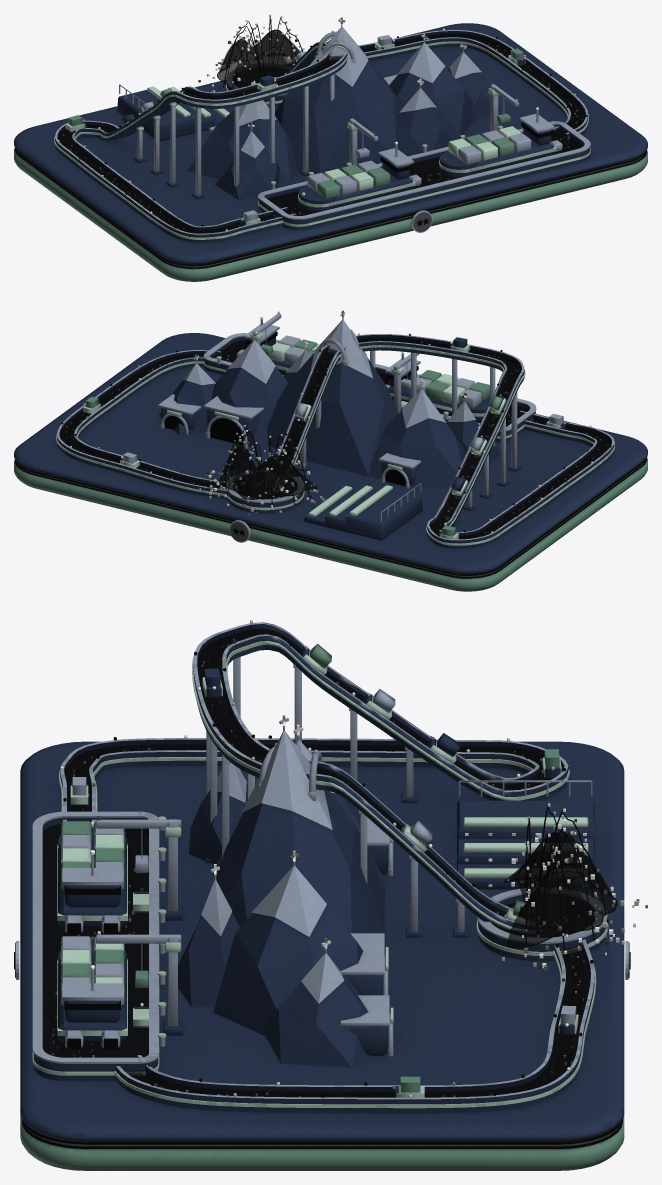
Rendered from SM_Evo_CargoTransfer.fbx.
3 views of the same model, one above another, from view 1: azimuth 30°, elevation 25°; view 2: azimuth 150°, elevation 25°; view 3: azimuth 270°, elevation 25° (orthographic). The views are drawn at different scales.
Parts seen in each view (by area): view 1: SMN_Evo_CargoTransfer, Emblem_Fx_CargoTransfer; view 2: SMN_Evo_CargoTransfer, Emblem_Fx_CargoTransfer; view 3: SMN_Evo_CargoTransfer, Emblem_Fx_CargoTransfer.
Part boxes in pixels (bbox=[...]): SMN_Evo_CargoTransfer: bbox=[14, 23, 647, 281]; Emblem_Fx_CargoTransfer: bbox=[15, 14, 646, 268]; SMN_Evo_CargoTransfer: bbox=[14, 313, 647, 591]; Emblem_Fx_CargoTransfer: bbox=[15, 310, 646, 578]; SMN_Evo_CargoTransfer: bbox=[15, 622, 629, 1170]; Emblem_Fx_CargoTransfer: bbox=[14, 620, 647, 1148].
Size of the model in its own units: 2.84 by 0.892 by 1.93.
